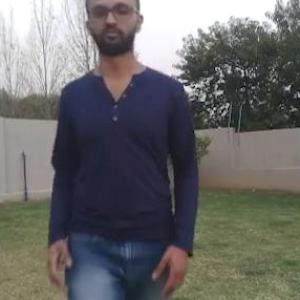follow: (67, 4, 169, 299)
